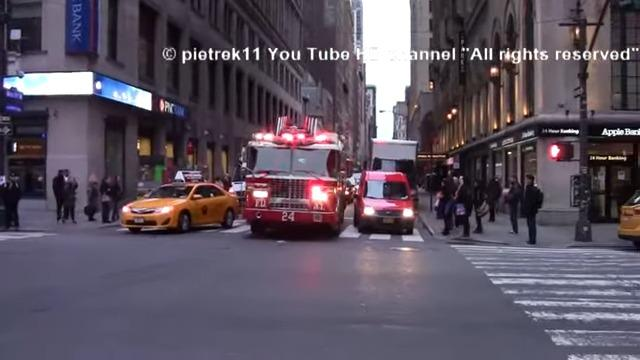Fire-engine: (237, 113, 353, 236)
